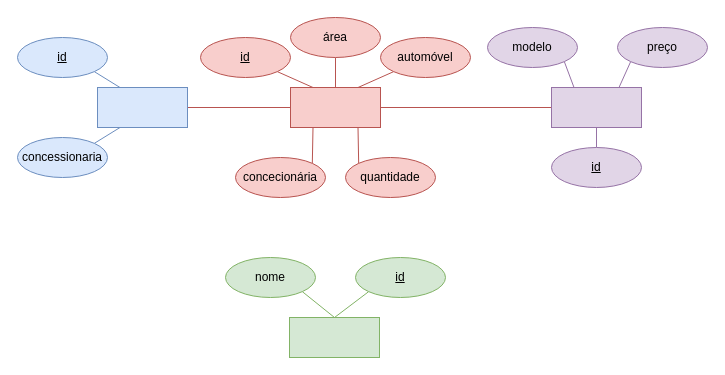
The diagram is 725 pixels wide and 375 high, and some of its shapes have lost their labels. The shapes that lost their labels are listed below. From the top down, each one's box as (x1, y1, x2, y2) in pixels, then its label:
(96, 86, 188, 128): Concessionária
(290, 86, 380, 128): Alocação
(550, 86, 642, 128): Automóveis
(288, 316, 380, 358): Clientes
